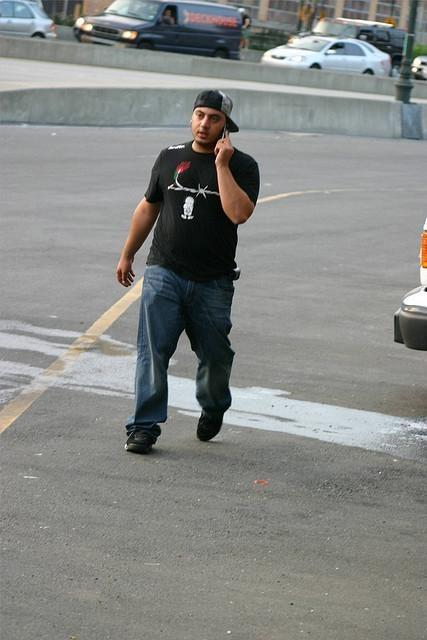car: (260, 34, 392, 76), (394, 239, 427, 353), (0, 0, 58, 40), (411, 55, 427, 79)
truck: (66, 0, 244, 66), (310, 16, 406, 68)
